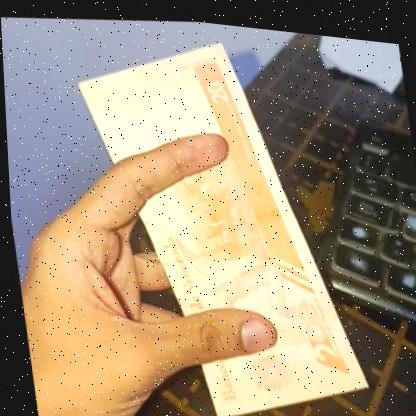vef_back: (66, 14, 372, 416)
